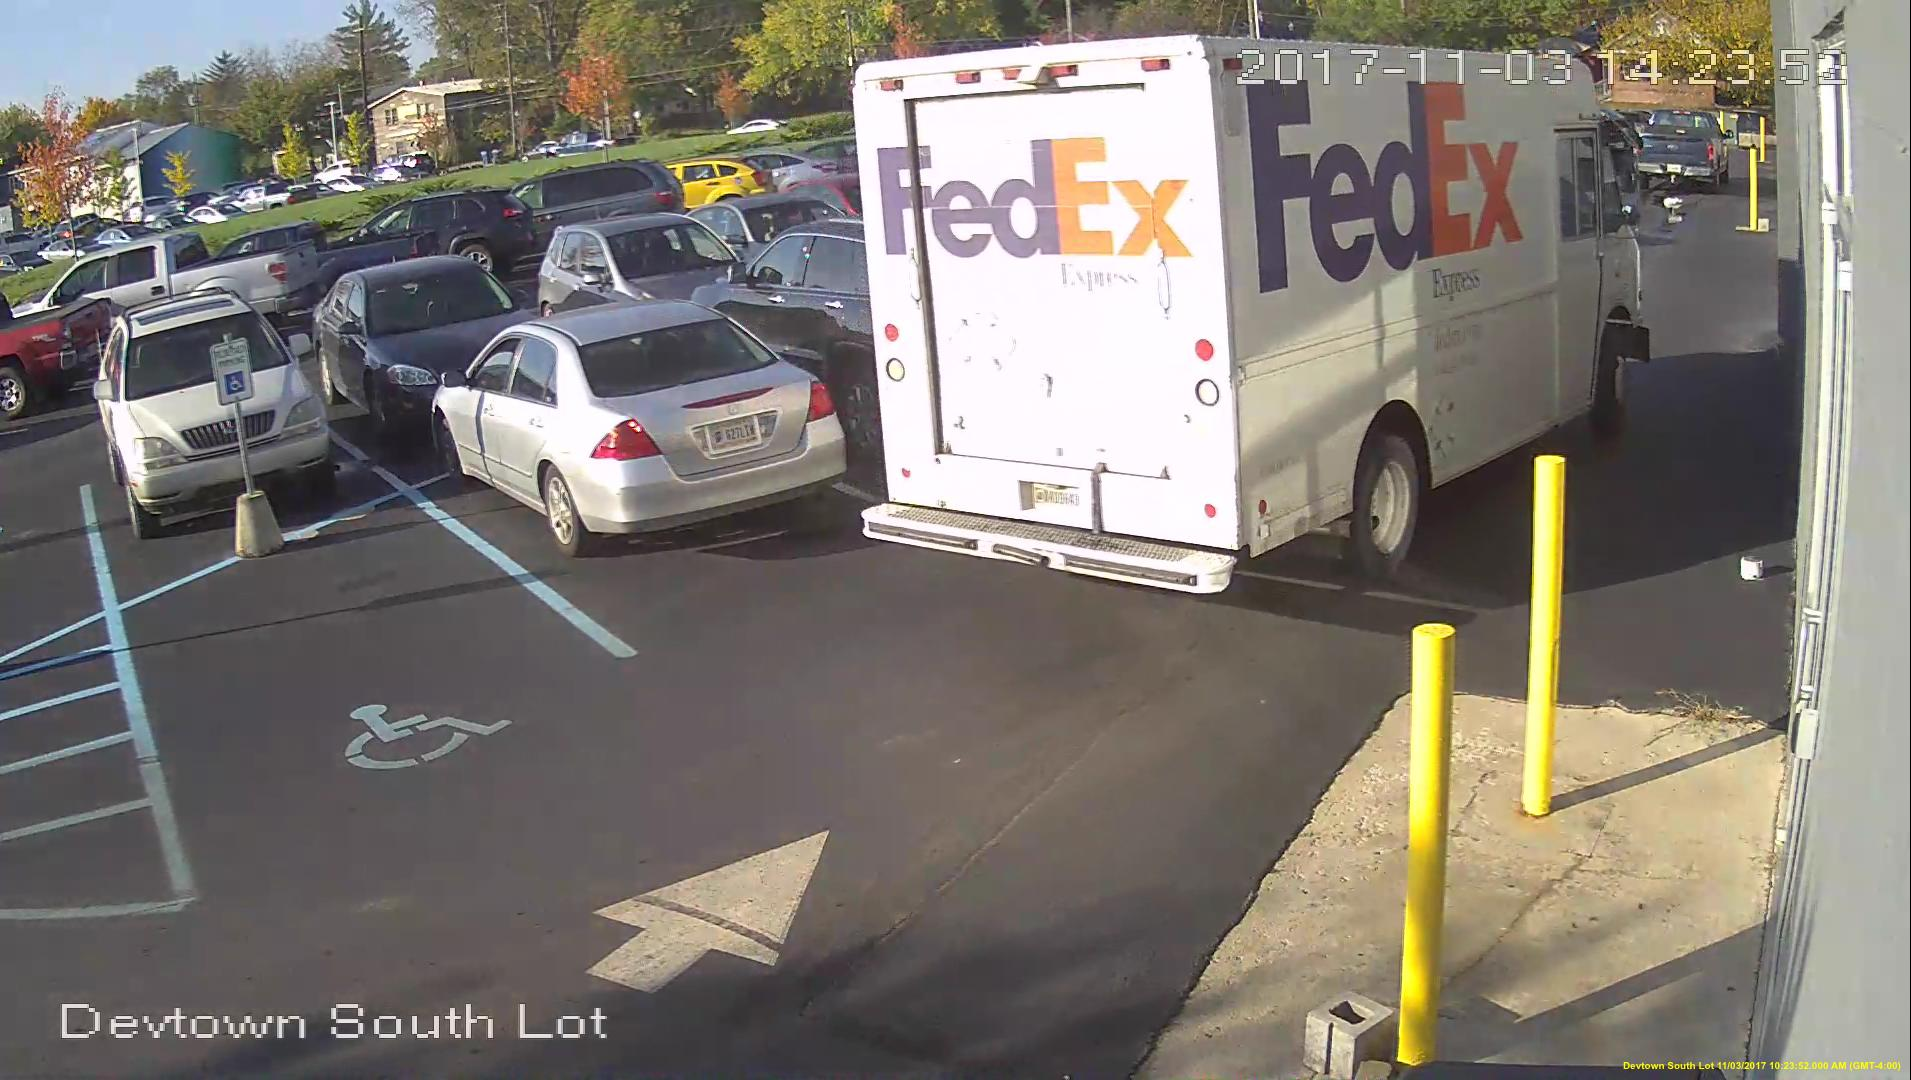fedex_truck: (840, 28, 1659, 602)
